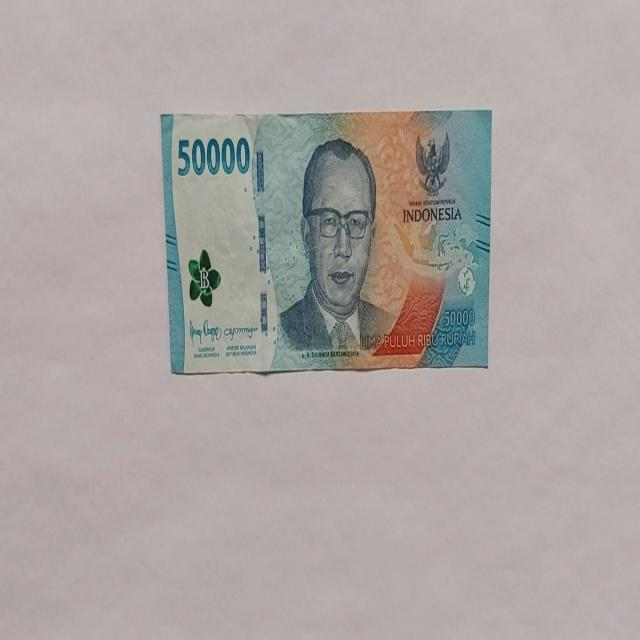lima puluh ribu rupiah: (160, 108, 492, 376), (272, 136, 398, 362)
